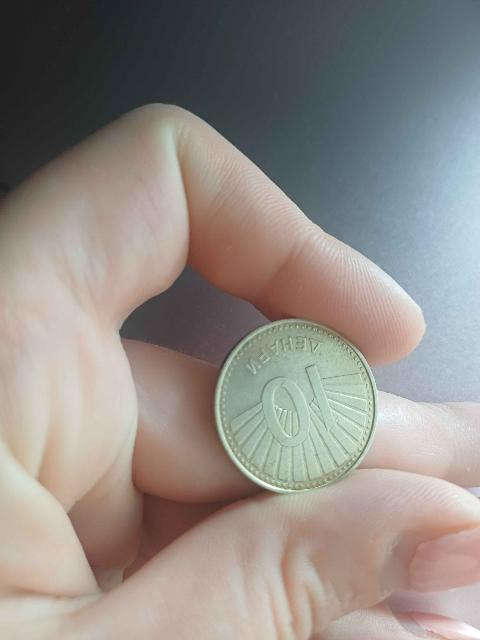10_coin: (215, 319, 377, 492)
